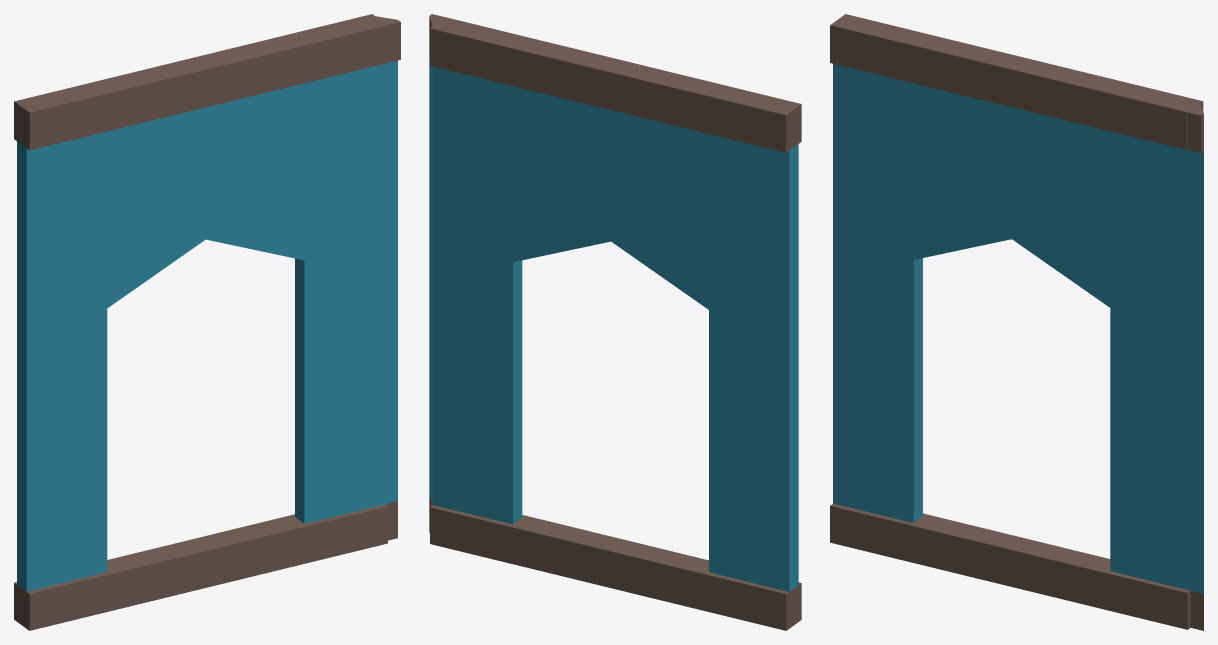
Rendered from DoorTile.fbx.
3 renders of one model, left to right at view 1: azimuth 30°, elevation 25°; view 2: azimuth 150°, elevation 25°; view 3: azimuth 330°, elevation 25°, orthographic.
Parts seen in each view (by area): view 1: DoorWall; view 2: DoorWall; view 3: DoorWall.
Part boxes in pixels (x1,y1,x2,y2): DoorWall: (14, 14, 400, 630); DoorWall: (429, 14, 801, 630); DoorWall: (830, 14, 1203, 630).
Bounding box in the file's own units: 900 × 1200 × 64.65.
